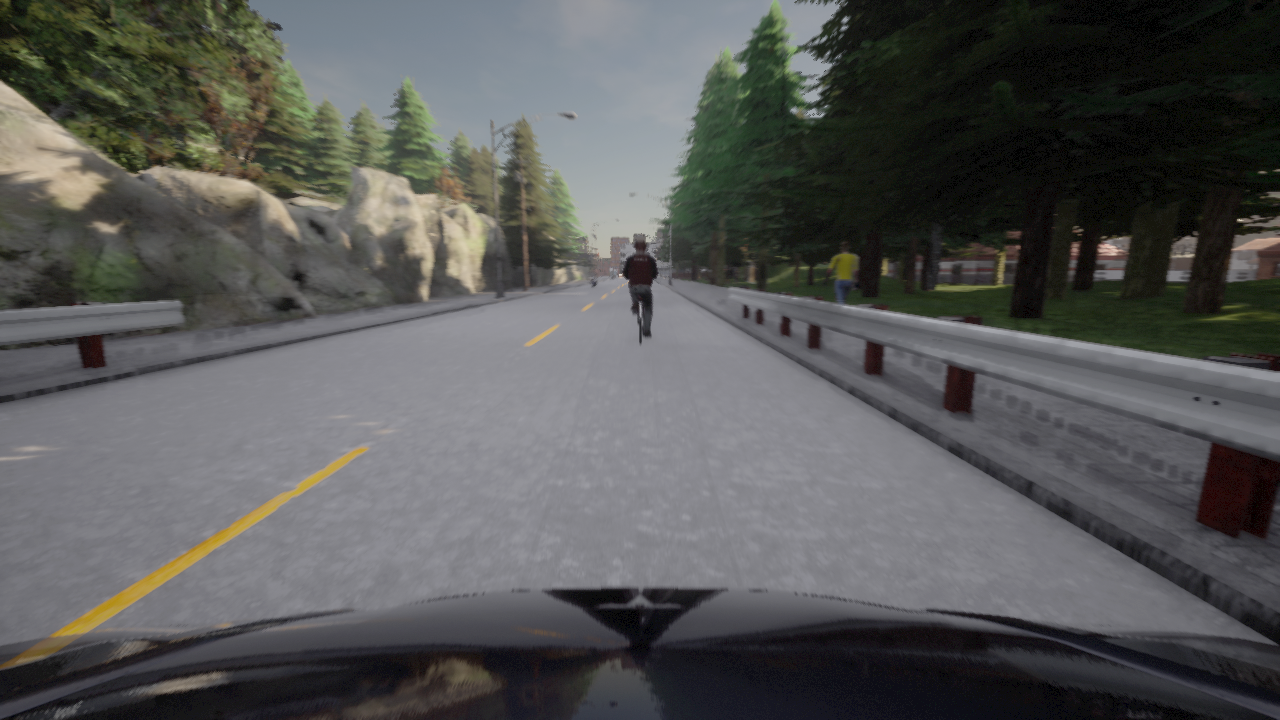cyclist: (0, 588, 1279, 719), (633, 296, 650, 343), (589, 273, 598, 287), (662, 272, 667, 274)
pedestrian: (823, 241, 858, 304)
